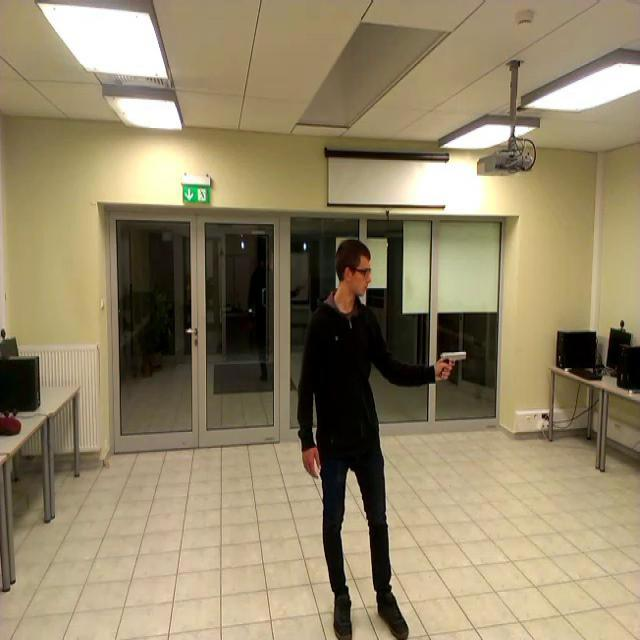weapon: (437, 351, 468, 379)
